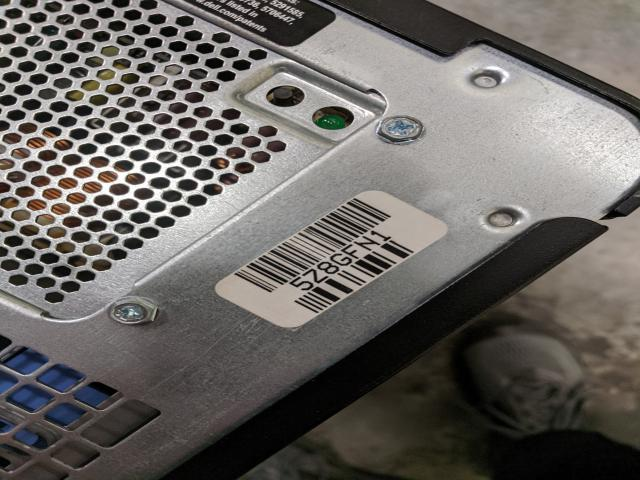CRS: (376, 113, 429, 145), (106, 297, 161, 326)
